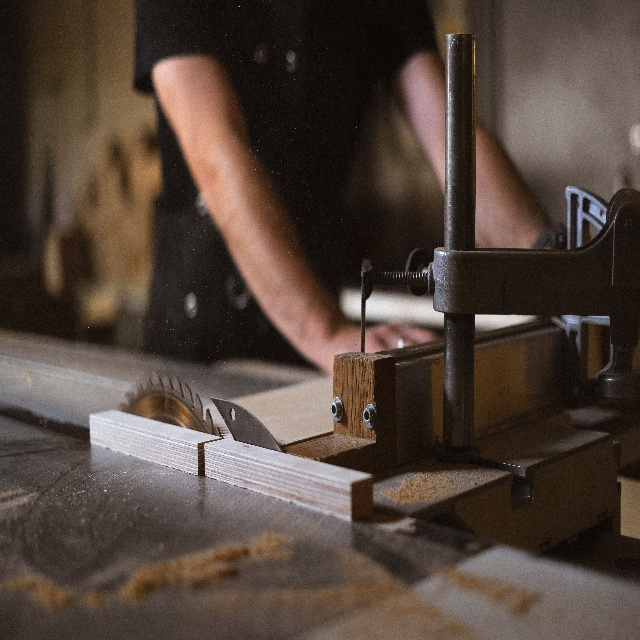Sin_guantes: (337, 313, 440, 360)
